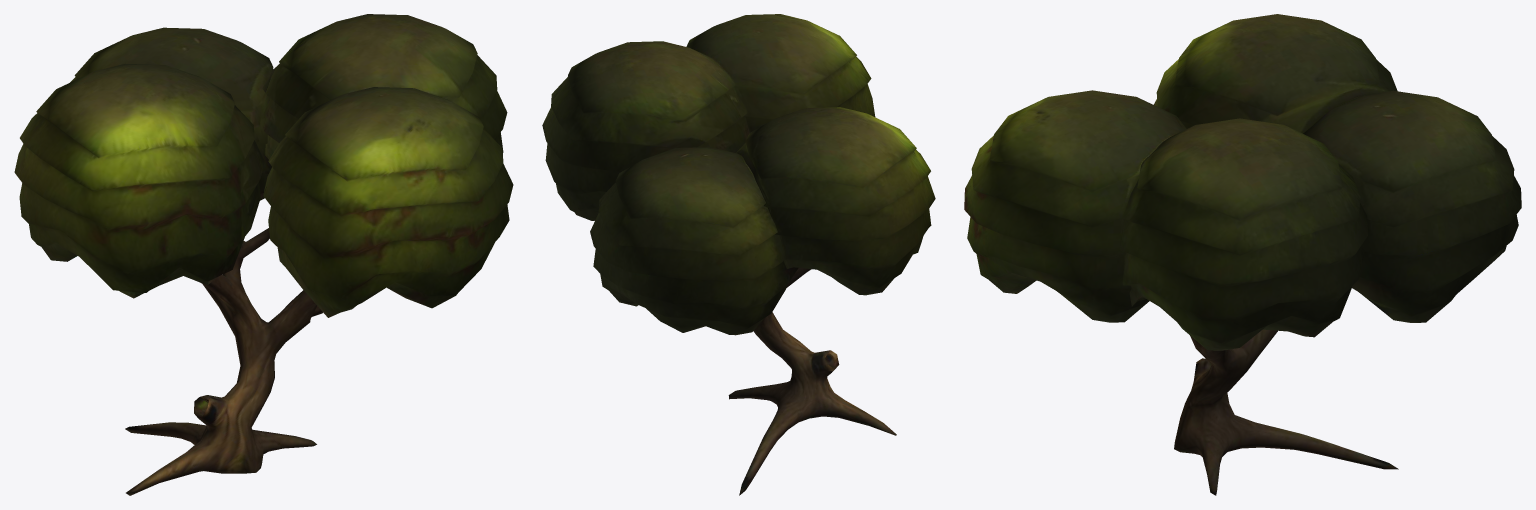
File: Tree_02.glb
3 renders of one model, left to right at view 1: azimuth 30°, elevation 25°; view 2: azimuth 150°, elevation 25°; view 3: azimuth 270°, elevation 25°, orthographic. The views are drawn at different scales.
Parts seen in each view (by area): view 1: Mesh1; view 2: Mesh1; view 3: Mesh1.
Boxes of the visible parts, x1=… form: Mesh1: x1=14, y1=14, x2=513, y2=495; Mesh1: x1=542, y1=14, x2=935, y2=495; Mesh1: x1=964, y1=14, x2=1521, y2=495.
Bounding box in the file's own units: 1.87 × 1.69 × 2.
Materials: 1 (1 with a texture image).
